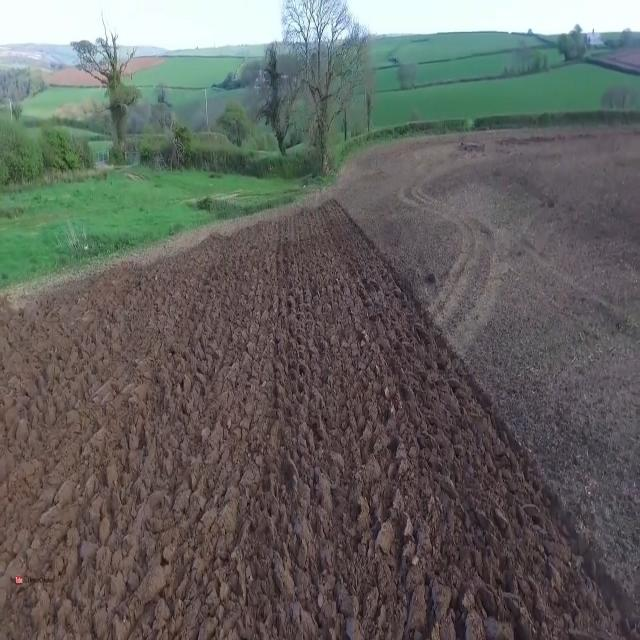Tree: (279, 0, 371, 183), (84, 25, 136, 171)
